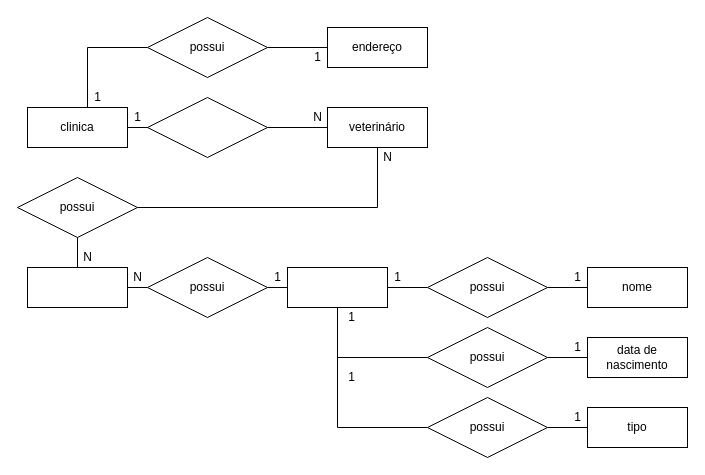
This 705x475 diagram has some shape labels left out. Each missing label, with the centre of its shape:
"atendimento" goes at [77,287].
"cadastra" goes at [207,127].
"pet" goes at [337,287].
